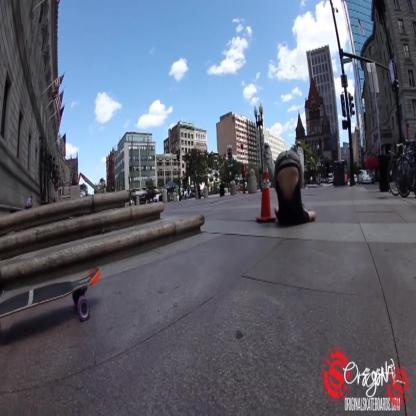Fall_Down: (263, 140, 319, 233)
